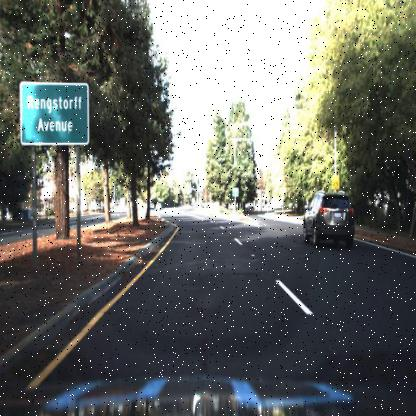car: (300, 189, 356, 248)
